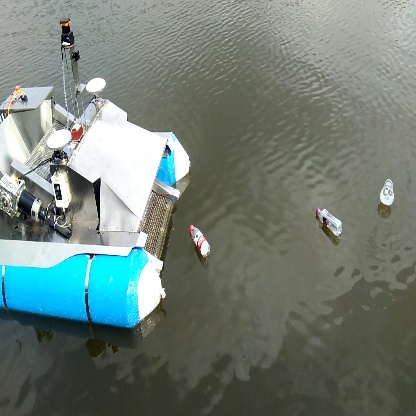bottle: (311, 204, 346, 237), (187, 221, 215, 262), (378, 176, 398, 209)
